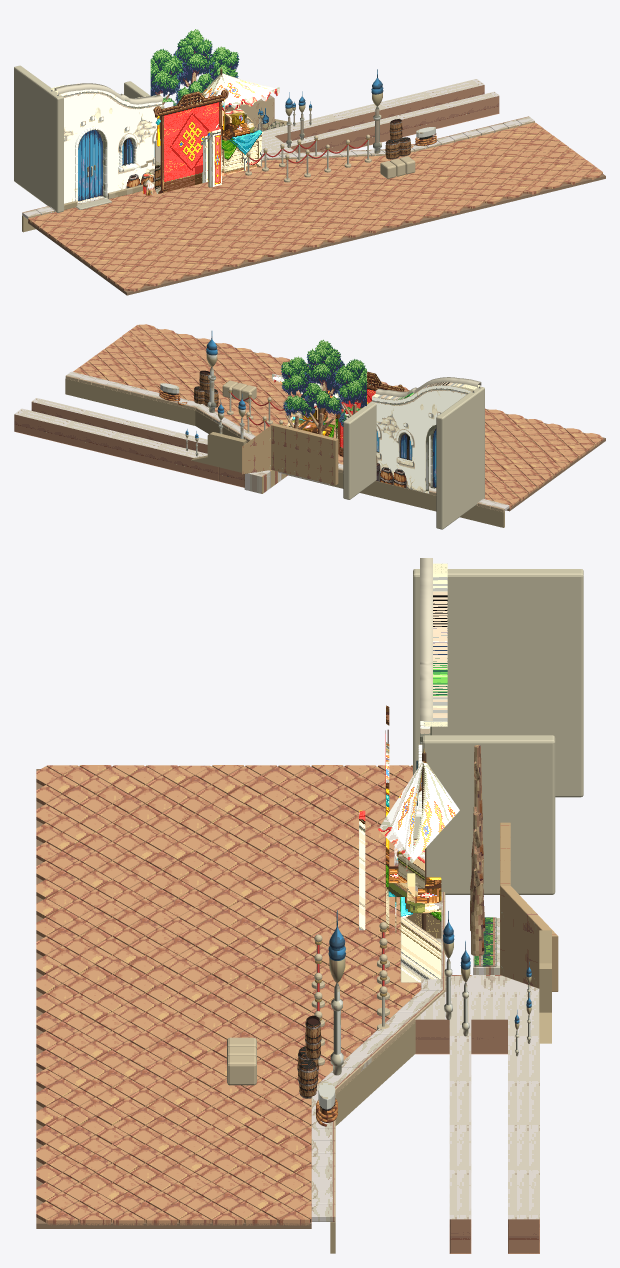
File: west_coast_port.glb
3 views of the same model, one above another, from view 1: azimuth 30°, elevation 25°; view 2: azimuth 150°, elevation 25°; view 3: azimuth 270°, elevation 25° (orthographic). The views are drawn at different scales.
Parts seen in each view (by area): view 1: Terracotta_Diamond_Paving, Curved_Plaster_Facade, Facade_Left_Return, Pier_Middle_Slab, Grove_Source_Canopy, Pier_Far_Slab, Stall_Screen_Cloth_Inset, Mortar_Bed_Shore_Polygon, Stall_Carved_Screen_Frame, Stall_Canopy, Stall_Counter, Pier_Landward_Backwall (+4 smaller); view 2: Terracotta_Diamond_Paving, Curved_Plaster_Facade, Facade_Left_Return, Pier_Far_Slab, Grove_Source_Canopy, Grove_Boundary_Wall_Front, Facade_Right_Return, Pier_Middle_Slab, Quay_Retaining_Wall_Front, Quay_Retaining_Wall_Left, Pier_Landward_Backwall, Grove_Boundary_Wall_Return (+8 smaller); view 3: Terracotta_Diamond_Paving, Facade_Left_Return, Facade_Right_Return, Pier_Far_Slab, Pier_Middle_Slab, Pier_Connecting_Spine, Stall_Canopy, Grove_Boundary_Wall_Return, Stall_Counter, Quay_Retaining_Wall_Diagonal, Curved_Plaster_Facade, Mortar_Bed_Shore_Polygon (+3 smaller).
Boxes of the visible parts, bbox=[...] form: Terracotta_Diamond_Paving: bbox=[28, 122, 602, 291]; Curved_Plaster_Facade: bbox=[51, 83, 162, 203]; Facade_Left_Return: bbox=[14, 65, 63, 212]; Pier_Middle_Slab: bbox=[284, 91, 499, 152]; Grove_Source_Canopy: bbox=[150, 29, 239, 107]; Pier_Far_Slab: bbox=[266, 79, 484, 142]; Stall_Screen_Cloth_Inset: bbox=[160, 102, 219, 181]; Mortar_Bed_Shore_Polygon: bbox=[28, 174, 605, 295]; Stall_Carved_Screen_Frame: bbox=[153, 88, 228, 193]; Stall_Canopy: bbox=[202, 73, 274, 105]; Stall_Counter: bbox=[222, 130, 261, 176]; Pier_Landward_Backwall: bbox=[236, 95, 287, 131]; Terracotta_Diamond_Paving: bbox=[73, 324, 603, 508]; Curved_Plaster_Facade: bbox=[372, 382, 480, 493]; Facade_Left_Return: bbox=[436, 386, 484, 529]; Pier_Far_Slab: bbox=[14, 408, 218, 481]; Grove_Source_Canopy: bbox=[281, 339, 366, 426]; Grove_Boundary_Wall_Front: bbox=[271, 423, 338, 485]; Facade_Right_Return: bbox=[343, 401, 376, 499]; Pier_Middle_Slab: bbox=[31, 398, 207, 453]; Quay_Retaining_Wall_Front: bbox=[65, 378, 195, 425]; Quay_Retaining_Wall_Left: bbox=[288, 472, 504, 527]; Pier_Landward_Backwall: bbox=[191, 432, 246, 472]; Grove_Boundary_Wall_Return: bbox=[242, 425, 271, 474]; Terracotta_Diamond_Paving: bbox=[36, 765, 421, 1225]; Facade_Left_Return: bbox=[413, 569, 583, 797]; Facade_Right_Return: bbox=[422, 735, 555, 894]; Pier_Far_Slab: bbox=[508, 1019, 539, 1253]; Pier_Middle_Slab: bbox=[449, 1019, 471, 1253]; Pier_Connecting_Spine: bbox=[415, 992, 539, 1054]; Stall_Canopy: bbox=[378, 761, 459, 862]; Grove_Boundary_Wall_Return: bbox=[500, 885, 558, 991]; Stall_Counter: bbox=[400, 877, 441, 982]; Quay_Retaining_Wall_Diagonal: bbox=[335, 1022, 415, 1125]; Curved_Plaster_Facade: bbox=[423, 563, 447, 726]; Mortar_Bed_Shore_Polygon: bbox=[36, 769, 311, 1228].
Bounding box in the file's own units: 17.01 × 5.23 × 8.65.
39 materials, 27 textured.
